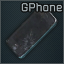Broken GPhone: (0, 0, 64, 64)
